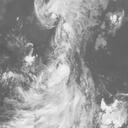cyclone: (36, 15, 92, 101)
